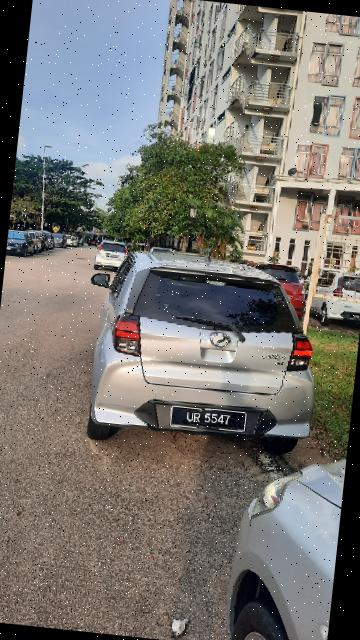License_Plate: (163, 399, 253, 438)
car: (74, 237, 334, 464)
